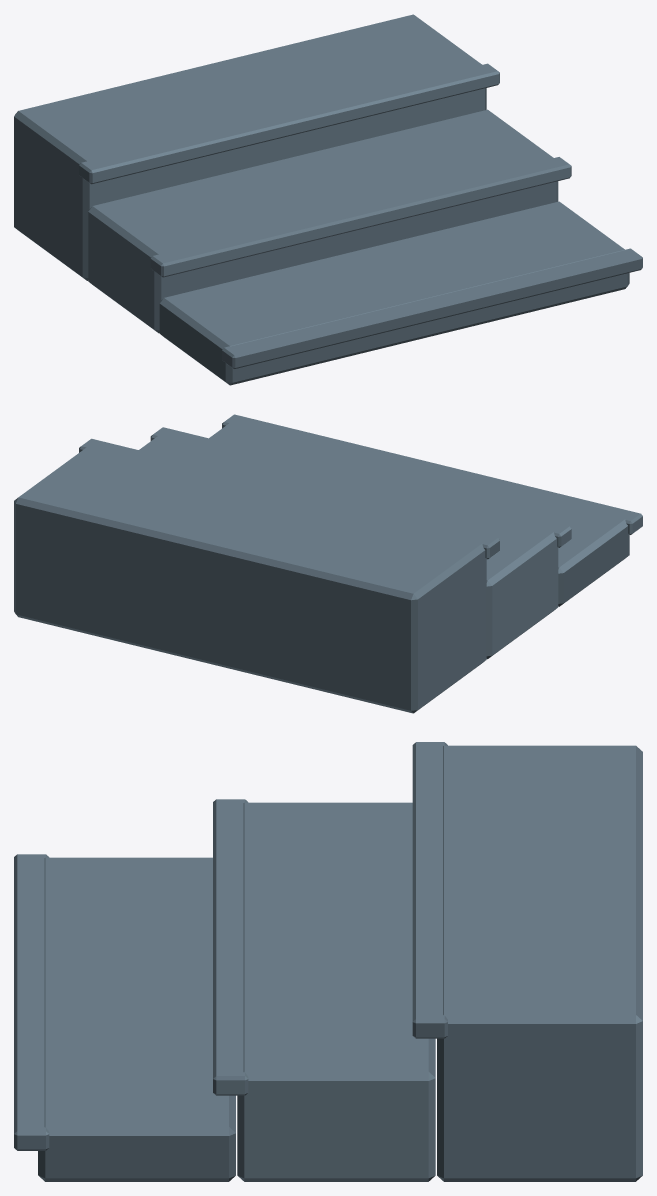
File: QH_Entry_Steps.fbx
3 views of the same model, one above another, from view 1: azimuth 30°, elevation 25°; view 2: azimuth 150°, elevation 25°; view 3: azimuth 270°, elevation 25° (orthographic). The views are drawn at different scales.
Parts seen in each view (by area): view 1: QH_Entry_Steps; view 2: QH_Entry_Steps; view 3: QH_Entry_Steps.
Boxes of the visible parts, <box> form: QH_Entry_Steps: <box>14,14,642,385</box>; QH_Entry_Steps: <box>14,414,642,713</box>; QH_Entry_Steps: <box>14,742,642,1181</box>.
Bounding box in the file's own units: 1.22 × 0.34 × 1.16.
